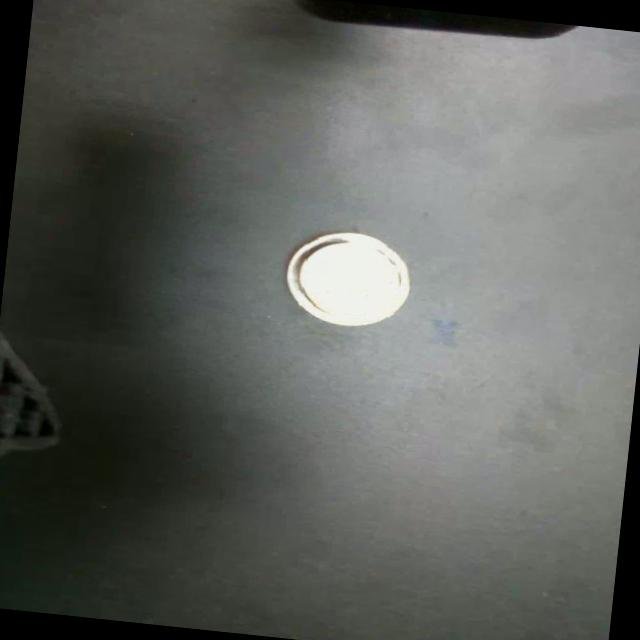sensor: (278, 224, 416, 335)
